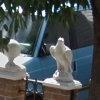Statue: (41, 29, 80, 92)
